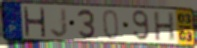0: (102, 9, 120, 41)
3: (76, 8, 97, 40)
9: (131, 9, 152, 42)
H: (22, 6, 47, 38), (153, 11, 176, 42)
J: (49, 7, 70, 39)
